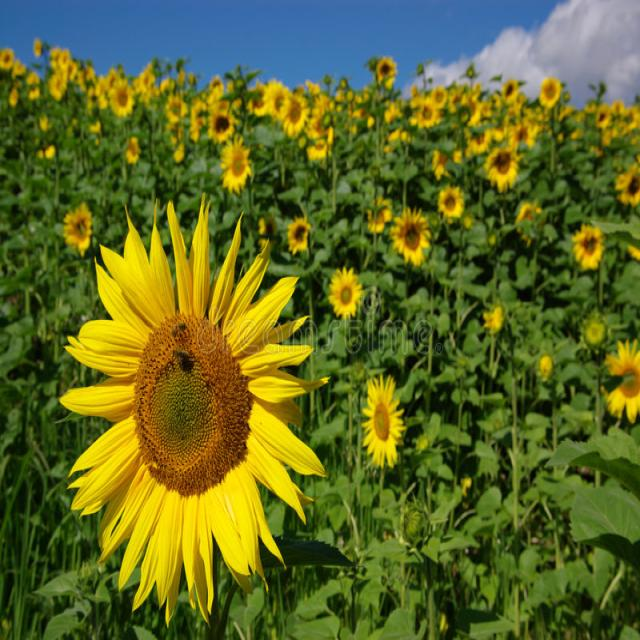sunflower: (49, 188, 327, 616), (354, 363, 412, 471), (600, 332, 640, 434), (386, 200, 432, 272), (324, 262, 364, 325), (213, 138, 253, 198), (569, 216, 608, 277), (61, 201, 101, 258), (482, 142, 522, 195), (278, 92, 312, 138), (104, 77, 140, 118), (436, 179, 468, 222), (206, 103, 238, 146), (285, 213, 313, 260), (261, 74, 285, 115), (369, 54, 401, 84), (536, 75, 563, 110), (416, 96, 440, 130), (46, 70, 69, 102), (124, 137, 142, 164), (0, 46, 18, 72)
